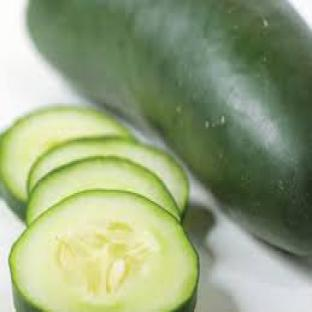Cucumber: (10, 190, 198, 311), (0, 107, 130, 217), (28, 137, 189, 213), (27, 156, 180, 225)
